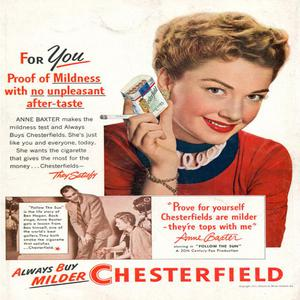cigarette: (97, 109, 159, 120)
